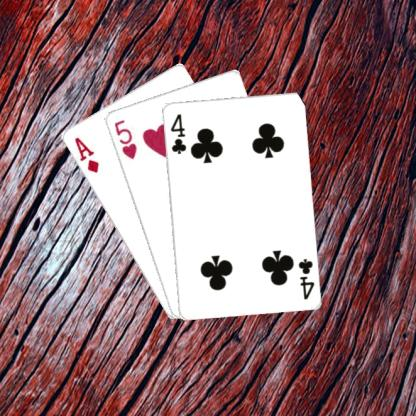4C: (295, 255, 315, 301), (167, 110, 187, 154)
5H: (111, 117, 138, 160)
AD: (71, 134, 100, 174)
